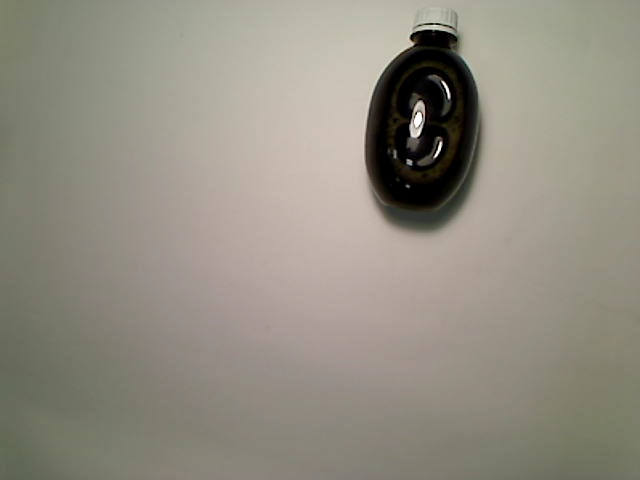plast_bottle: (361, 5, 486, 216)
